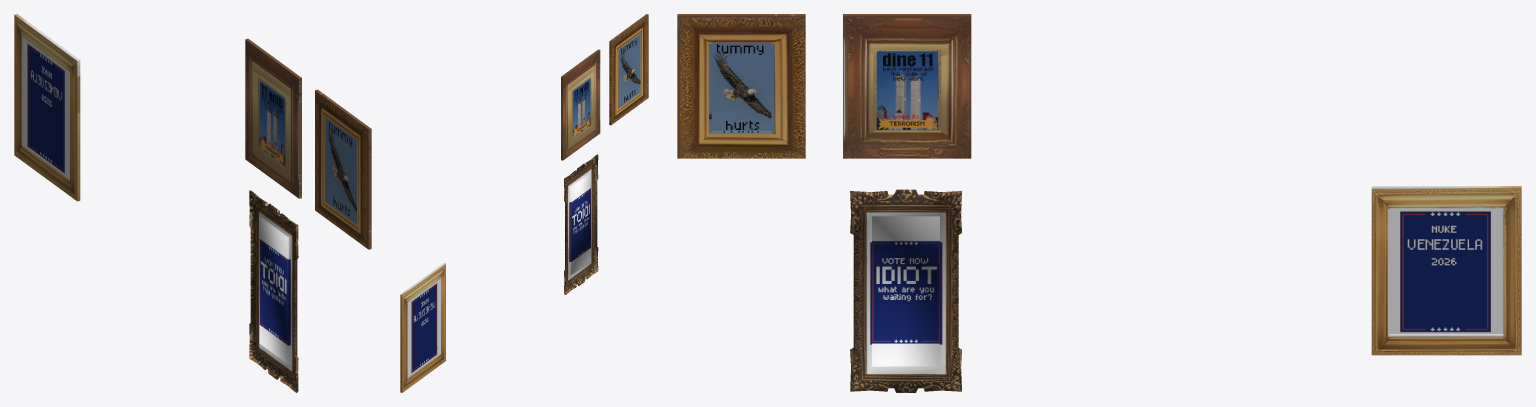
File: Malenias Pictures.glb
3 renders of one model, left to right at view 1: azimuth 30°, elevation 25°; view 2: azimuth 150°, elevation 25°; view 3: azimuth 270°, elevation 25°, orthographic. The views are drawn at different scales.
Parts seen in each view (by area): view 1: Pictureframe6, Pictureframe3, Pictureframe4, Pictureframe1; view 2: Pictureframe6, Pictureframe3, Pictureframe1, Pictureframe4; view 3: Pictureframe6, Pictureframe3, Pictureframe1, Pictureframe4.
Part boxes in pixels (left/top/right/bottom): Pictureframe6: left=14, top=14, right=80, bottom=201; Pictureframe3: left=249, top=190, right=298, bottom=392; Pictureframe4: left=245, top=38, right=301, bottom=198; Pictureframe1: left=315, top=89, right=371, bottom=249; Pictureframe6: left=400, top=262, right=445, bottom=392; Pictureframe3: left=564, top=154, right=598, bottom=294; Pictureframe1: left=609, top=14, right=648, bottom=125; Pictureframe4: left=561, top=49, right=600, bottom=160; Pictureframe6: left=1371, top=186, right=1521, bottom=355; Pictureframe3: left=850, top=189, right=961, bottom=392; Pictureframe1: left=677, top=14, right=805, bottom=158; Pictureframe4: left=843, top=14, right=971, bottom=158.
Size of the model in its own units: 0.0142 by 1.47 by 2.96.
Materials: 1 (1 with a texture image).
